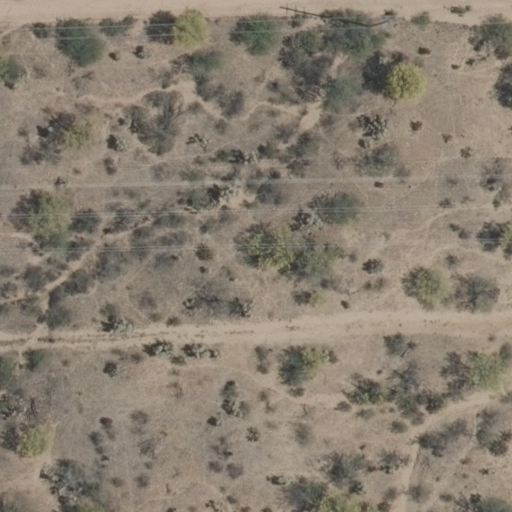DT: (364, 9, 399, 35)
